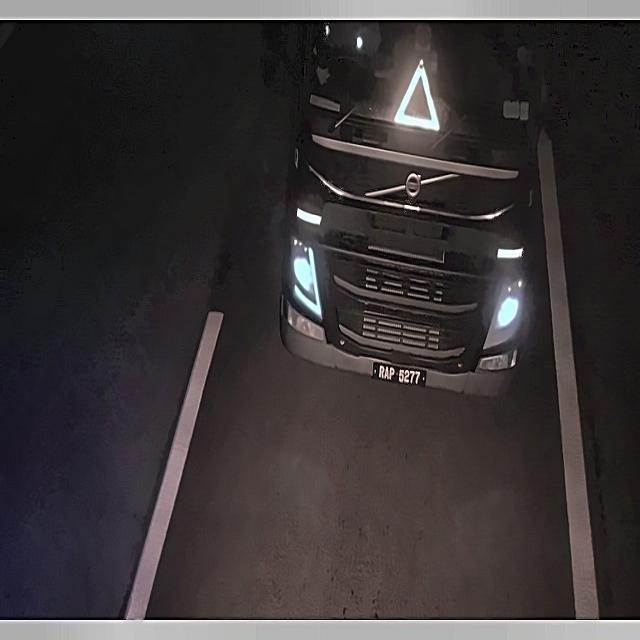car: (372, 356, 429, 395)
